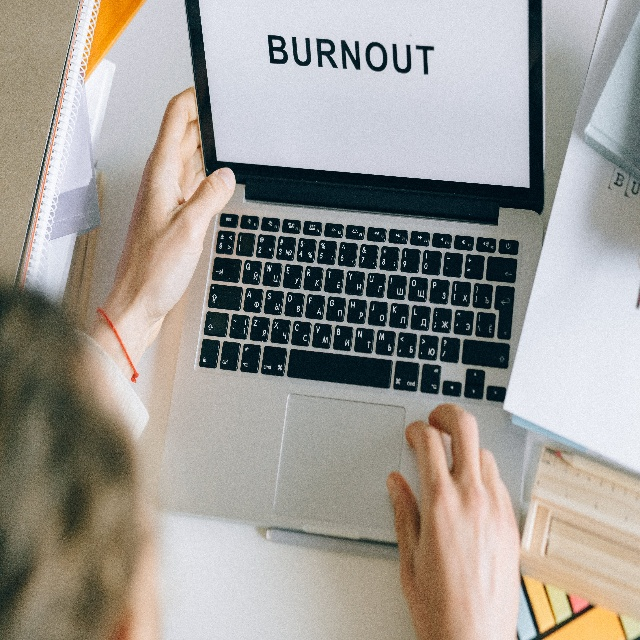Sin_guantes: (107, 87, 237, 350), (387, 396, 521, 640)
